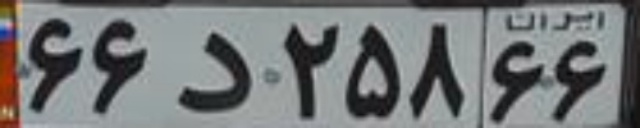2: (280, 22, 331, 119)
5: (342, 22, 401, 118)
6: (27, 15, 82, 112), (91, 18, 145, 113), (549, 42, 606, 124), (488, 38, 543, 122)
8: (409, 21, 464, 119)
dal: (176, 29, 258, 113)
